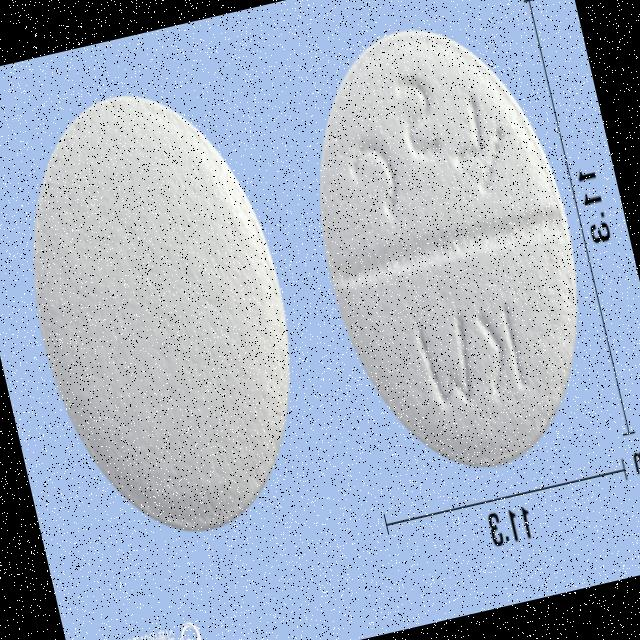K-Sacin: (278, 2, 618, 492), (0, 67, 328, 554)
